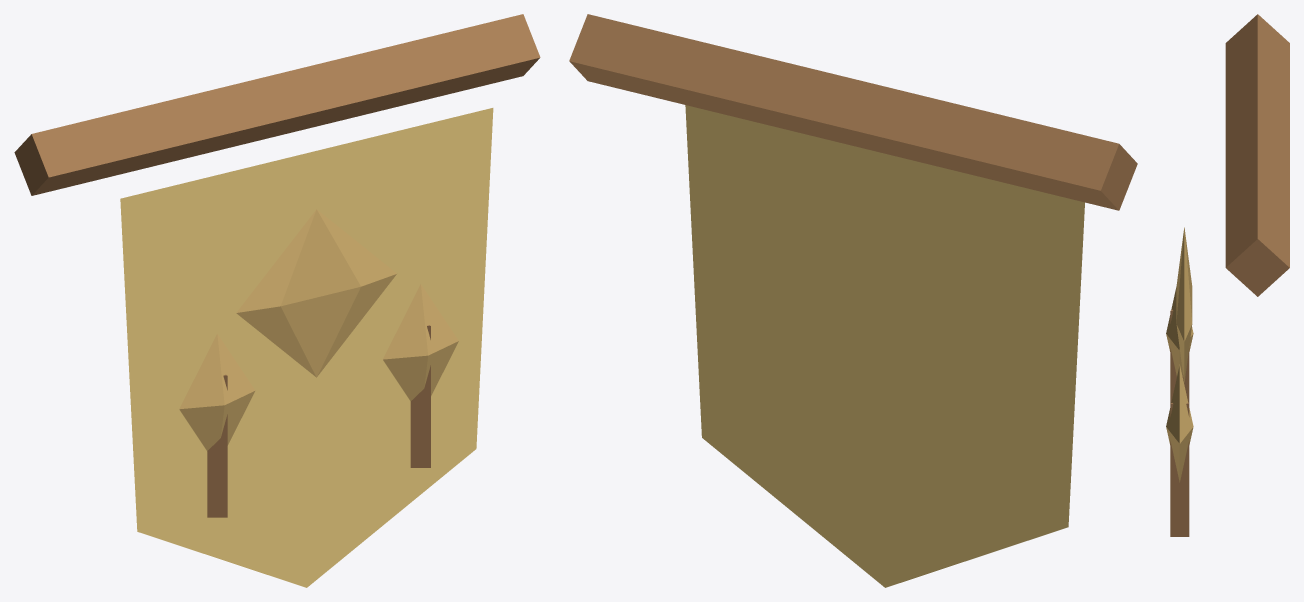
The model's file is Grassland_Ornament.fbx.
3 renders of one model, left to right at view 1: azimuth 30°, elevation 25°; view 2: azimuth 150°, elevation 25°; view 3: azimuth 270°, elevation 25°, orthographic. The views are drawn at different scales.
Visible parts, largest first — view 1: Grassland_Ornament; view 2: Grassland_Ornament; view 3: Grassland_Ornament.
Boxes of the visible parts, x1,y1,x2,y2 form: Grassland_Ornament: (14, 14, 540, 587); Grassland_Ornament: (569, 14, 1137, 587); Grassland_Ornament: (1166, 14, 1289, 536).
Size of the model in its own units: 58 by 55.5 by 13.5.
